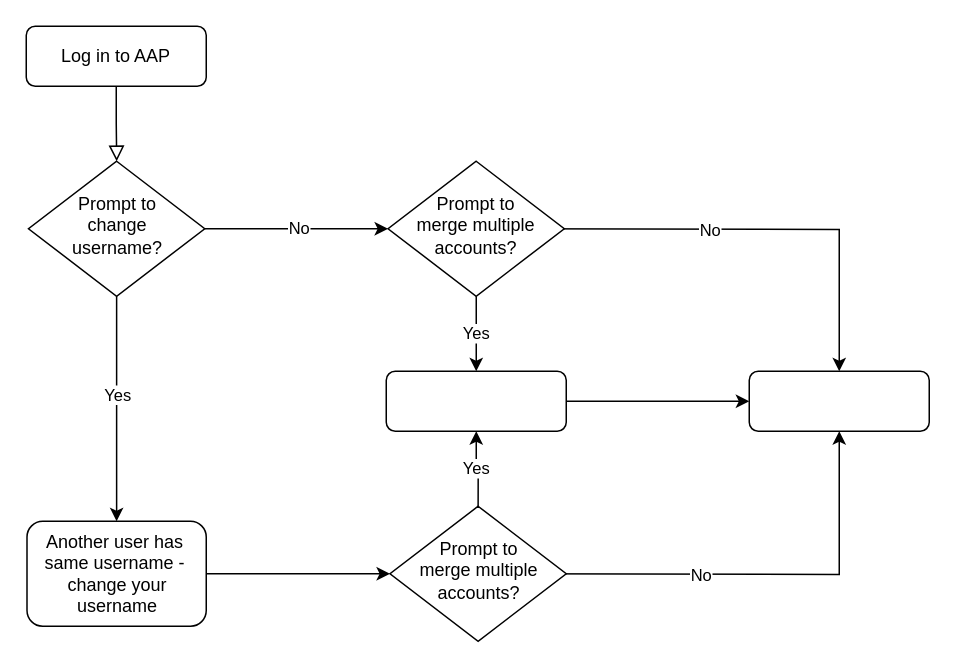
Some shapes in this 956 by 668 pixel diagram are drawn without their labels. The centre of each missing label's shape, as x and y in pixels:
"Account migration proceeds" belongs at point (838, 400).
"Select accounts to merge" belongs at point (475, 400).
